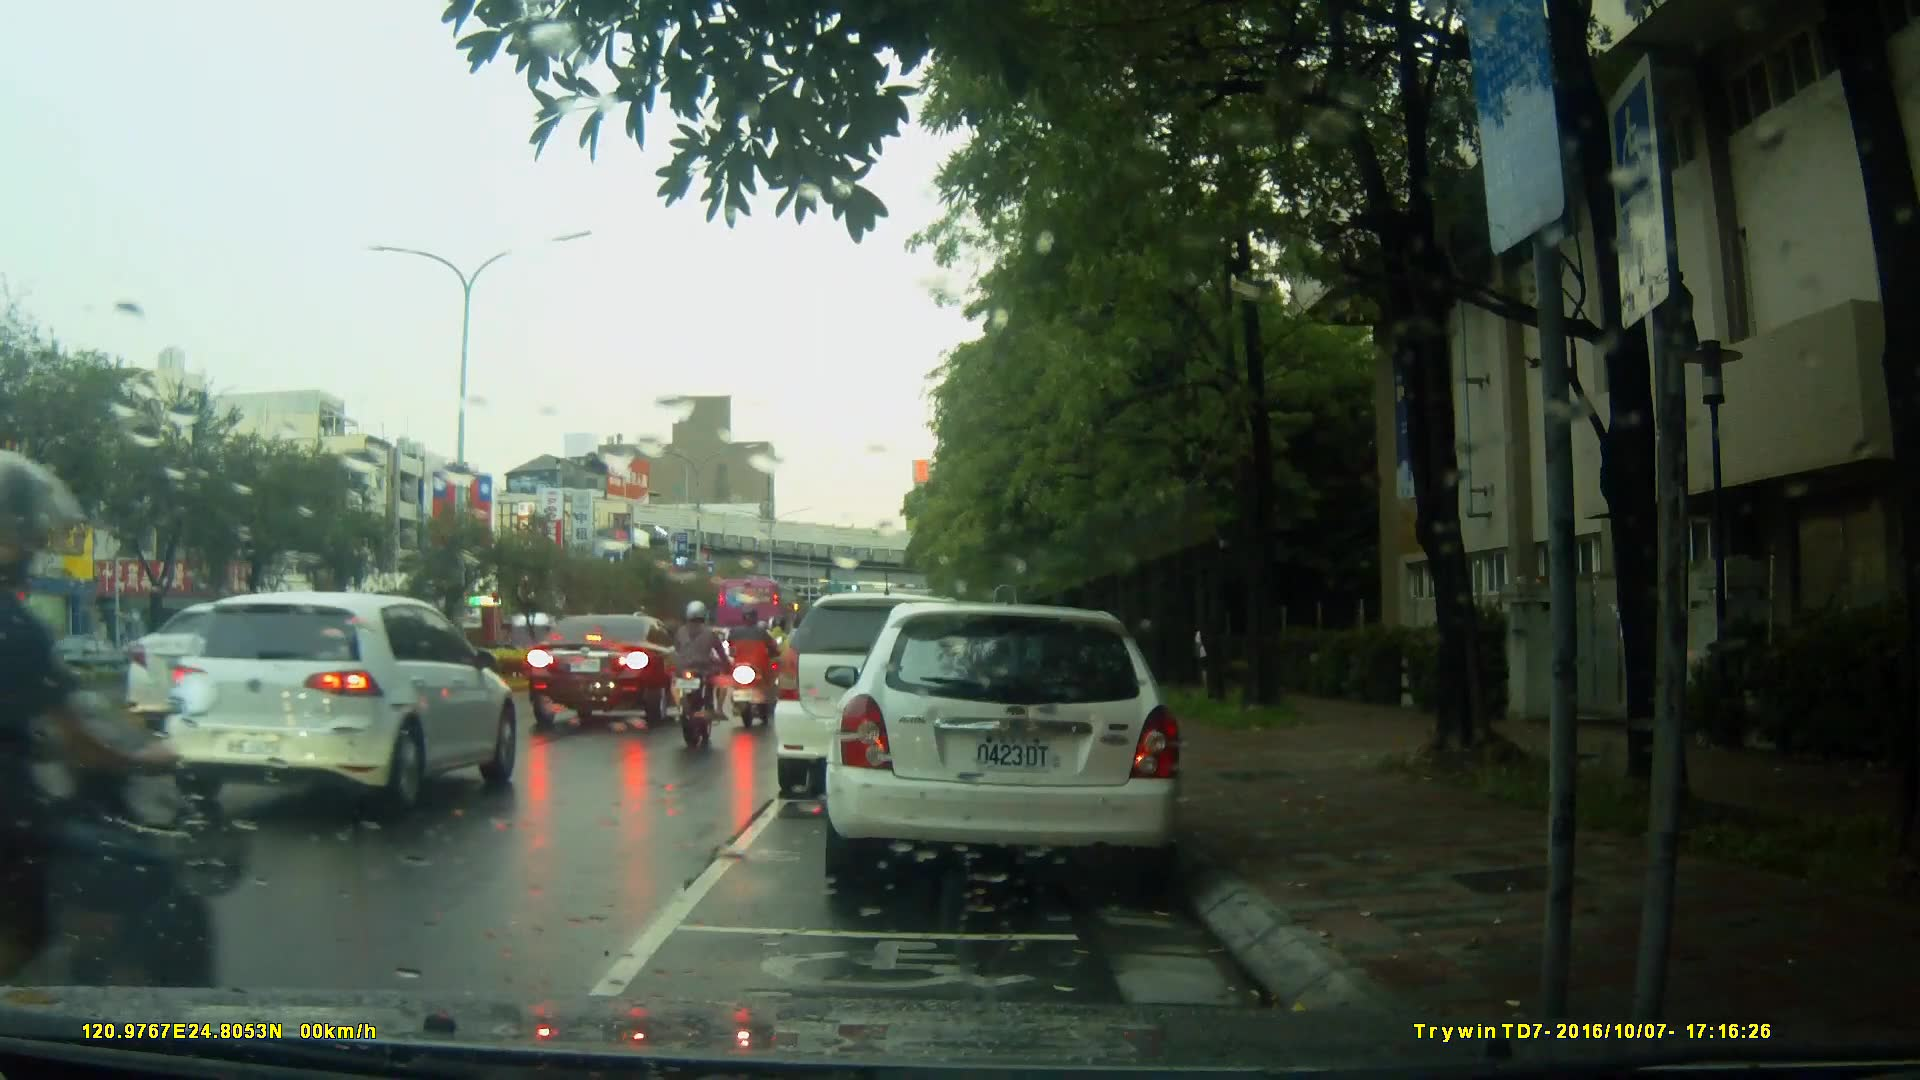rider: (1, 432, 239, 1059), (669, 599, 727, 755), (726, 602, 779, 734), (757, 610, 797, 714)
vehicle: (835, 594, 1194, 898), (160, 587, 519, 819), (776, 590, 1026, 784), (526, 611, 700, 732), (715, 577, 802, 647)
